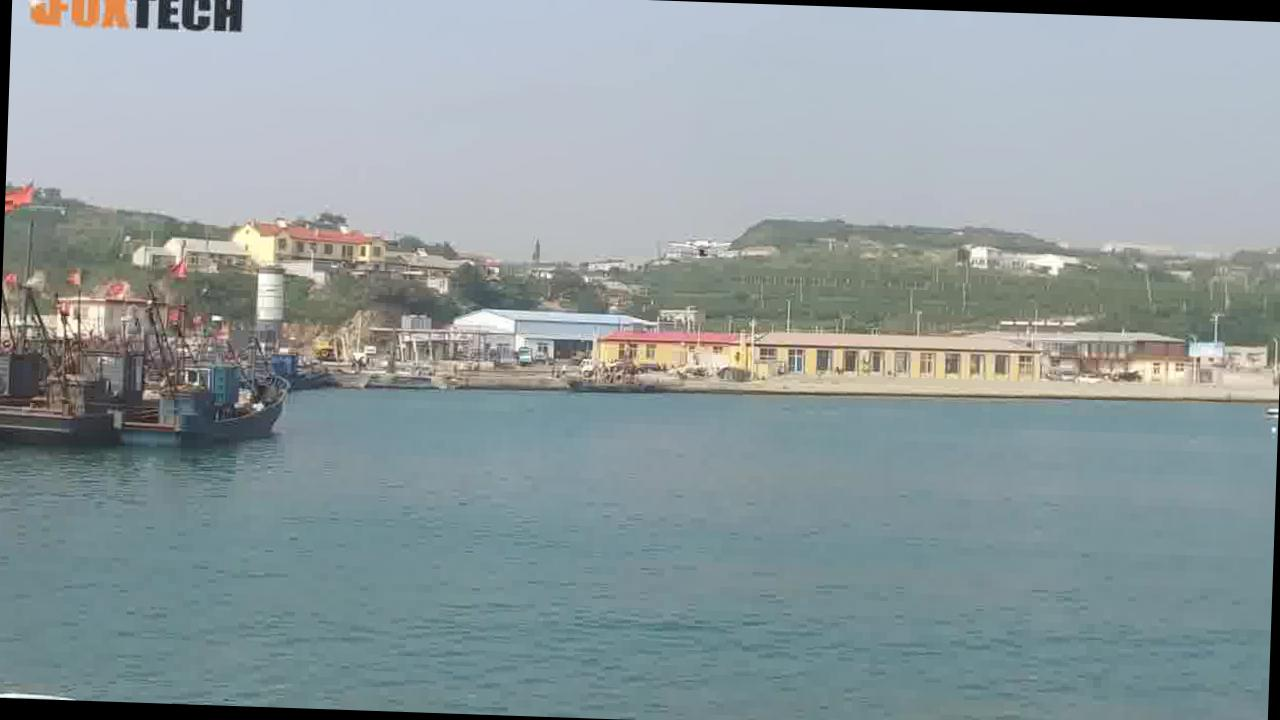drone: (669, 232, 730, 258)
